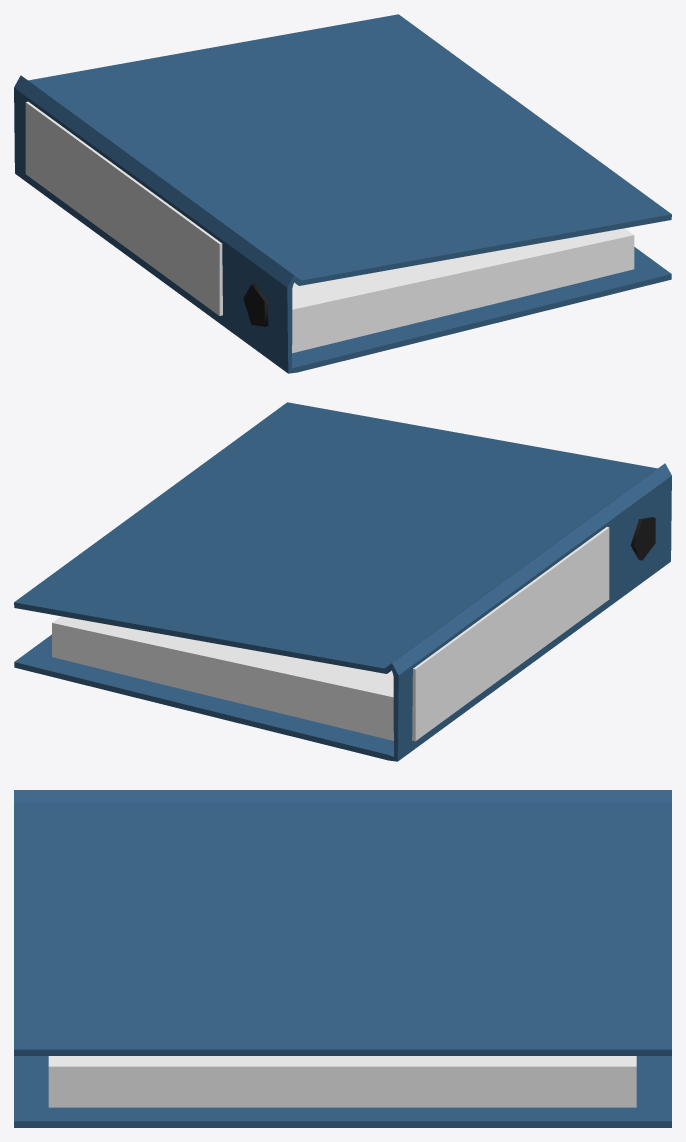
Rendered from SM_folder_02.fbx.
3 views of the same model, one above another, from view 1: azimuth 30°, elevation 25°; view 2: azimuth 150°, elevation 25°; view 3: azimuth 270°, elevation 25° (orthographic). The views are drawn at different scales.
Visible parts, largest first — view 1: Object32263; view 2: Object32263; view 3: Object32263.
Part boxes in pixels (x1,y1,x2,y2): Object32263: (14,14,671,373); Object32263: (14,402,671,761); Object32263: (14,790,671,1127).
Bounding box in the file's own units: 17.54 × 4.24 × 21.41.
